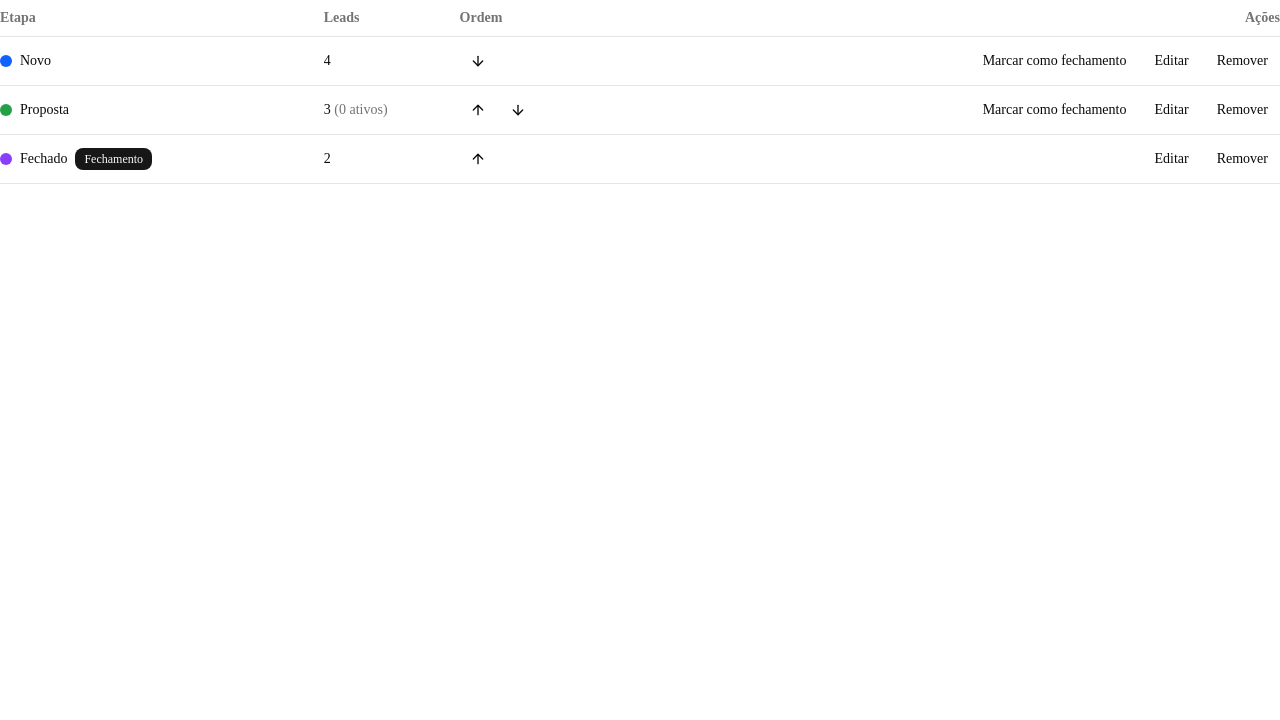
Test case: EtapasTable — edição › editar recusado mantém o diálogo aberto
Click the button with aria-label "Editar etapa" at coordinates (1172, 110), box [1142,94,1201,126]
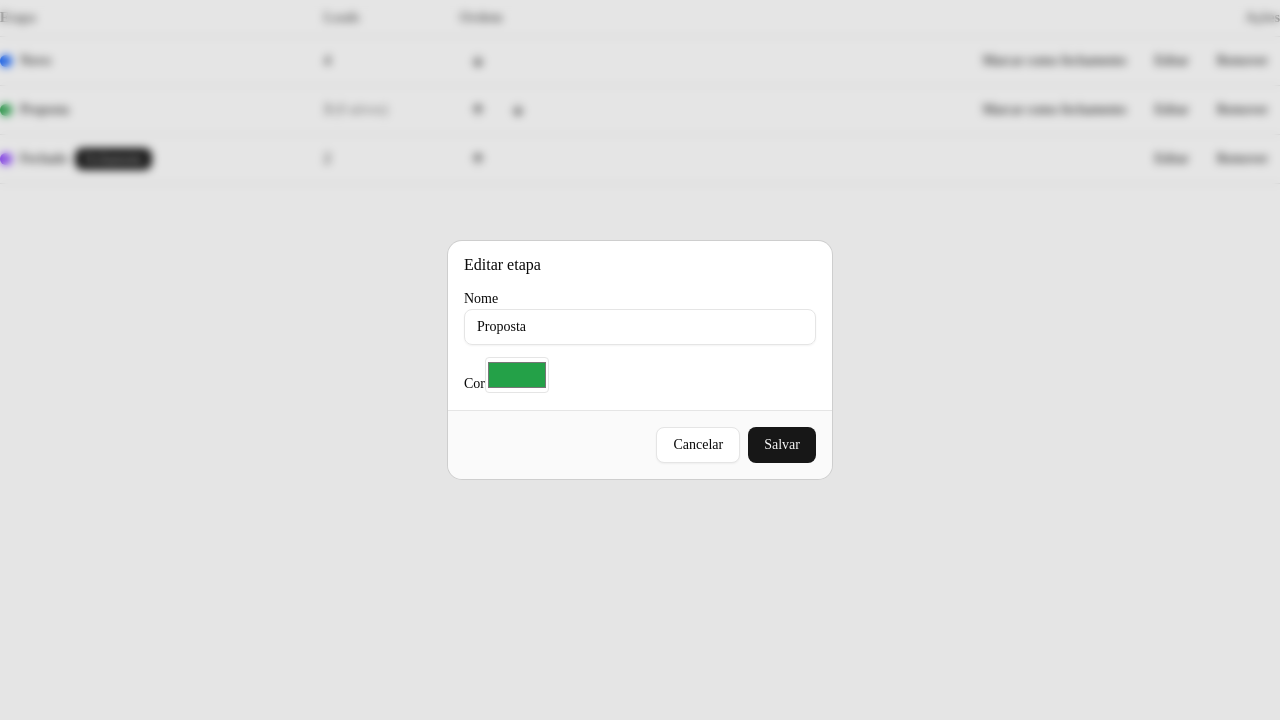
Replace the text in the field labelled "Nome" with "Novo" at coordinates (640, 327), box [464,309,816,345]
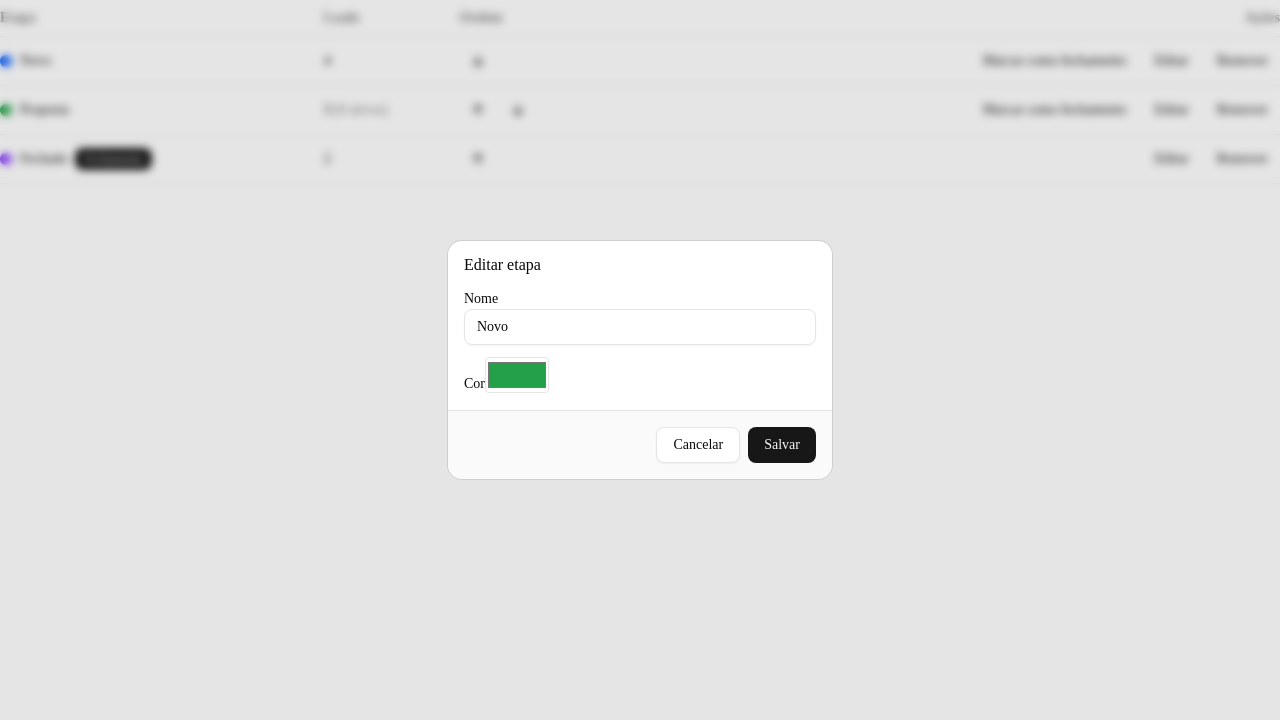
Click the button "Salvar" at coordinates (782, 445), box [748,427,816,463]
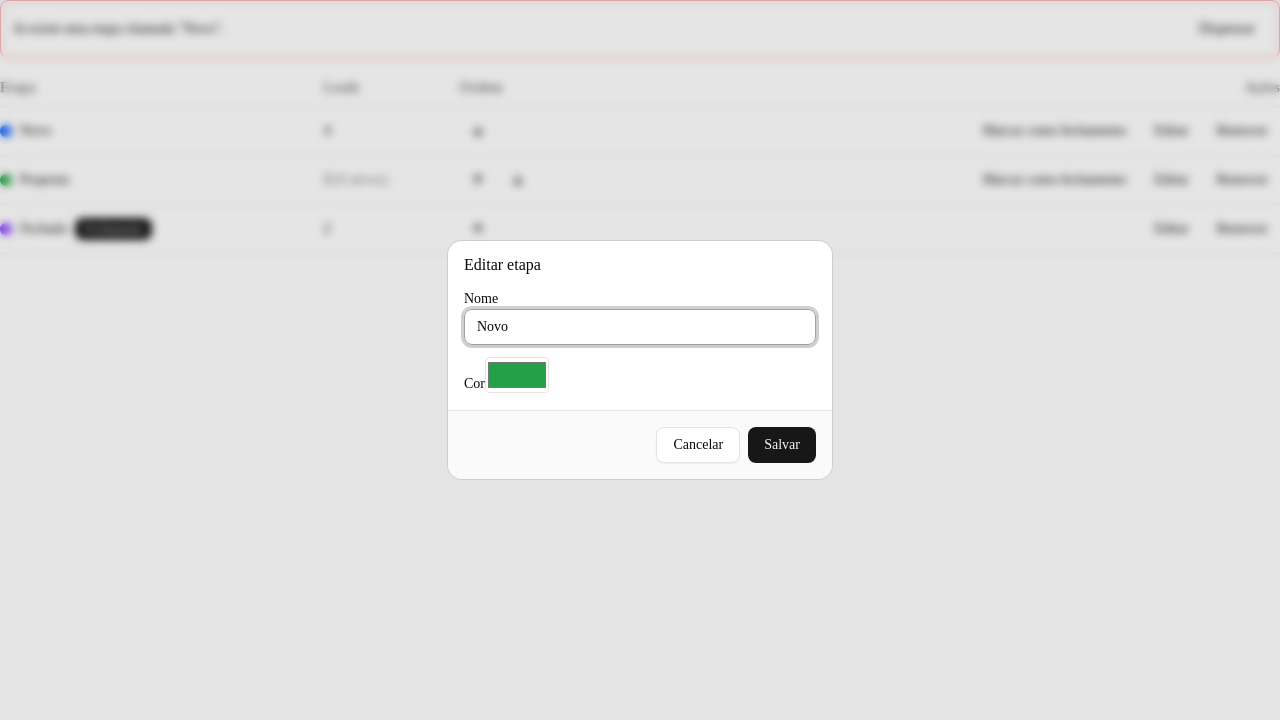
Check: the text "Já existe uma etapa" is shown, box [13,21,224,36]
